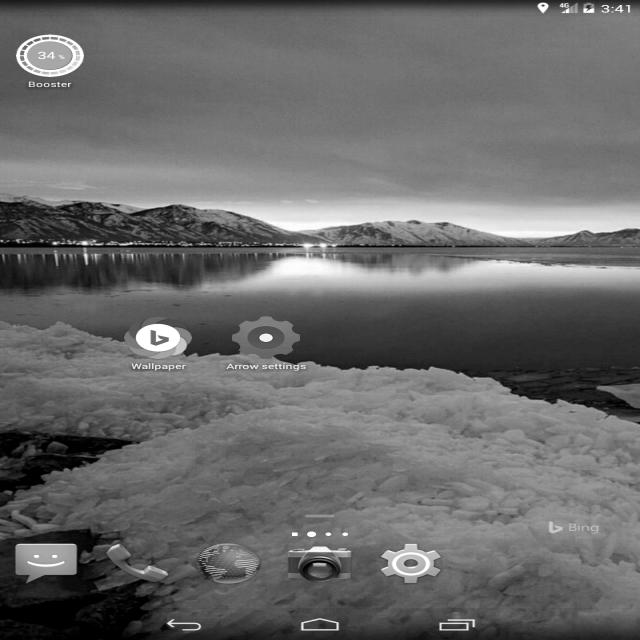ImageView: (231, 309, 324, 376), (116, 313, 202, 377), (13, 29, 100, 91), (276, 534, 354, 584), (97, 537, 168, 589), (195, 534, 259, 588), (374, 537, 443, 587), (5, 538, 76, 584)
